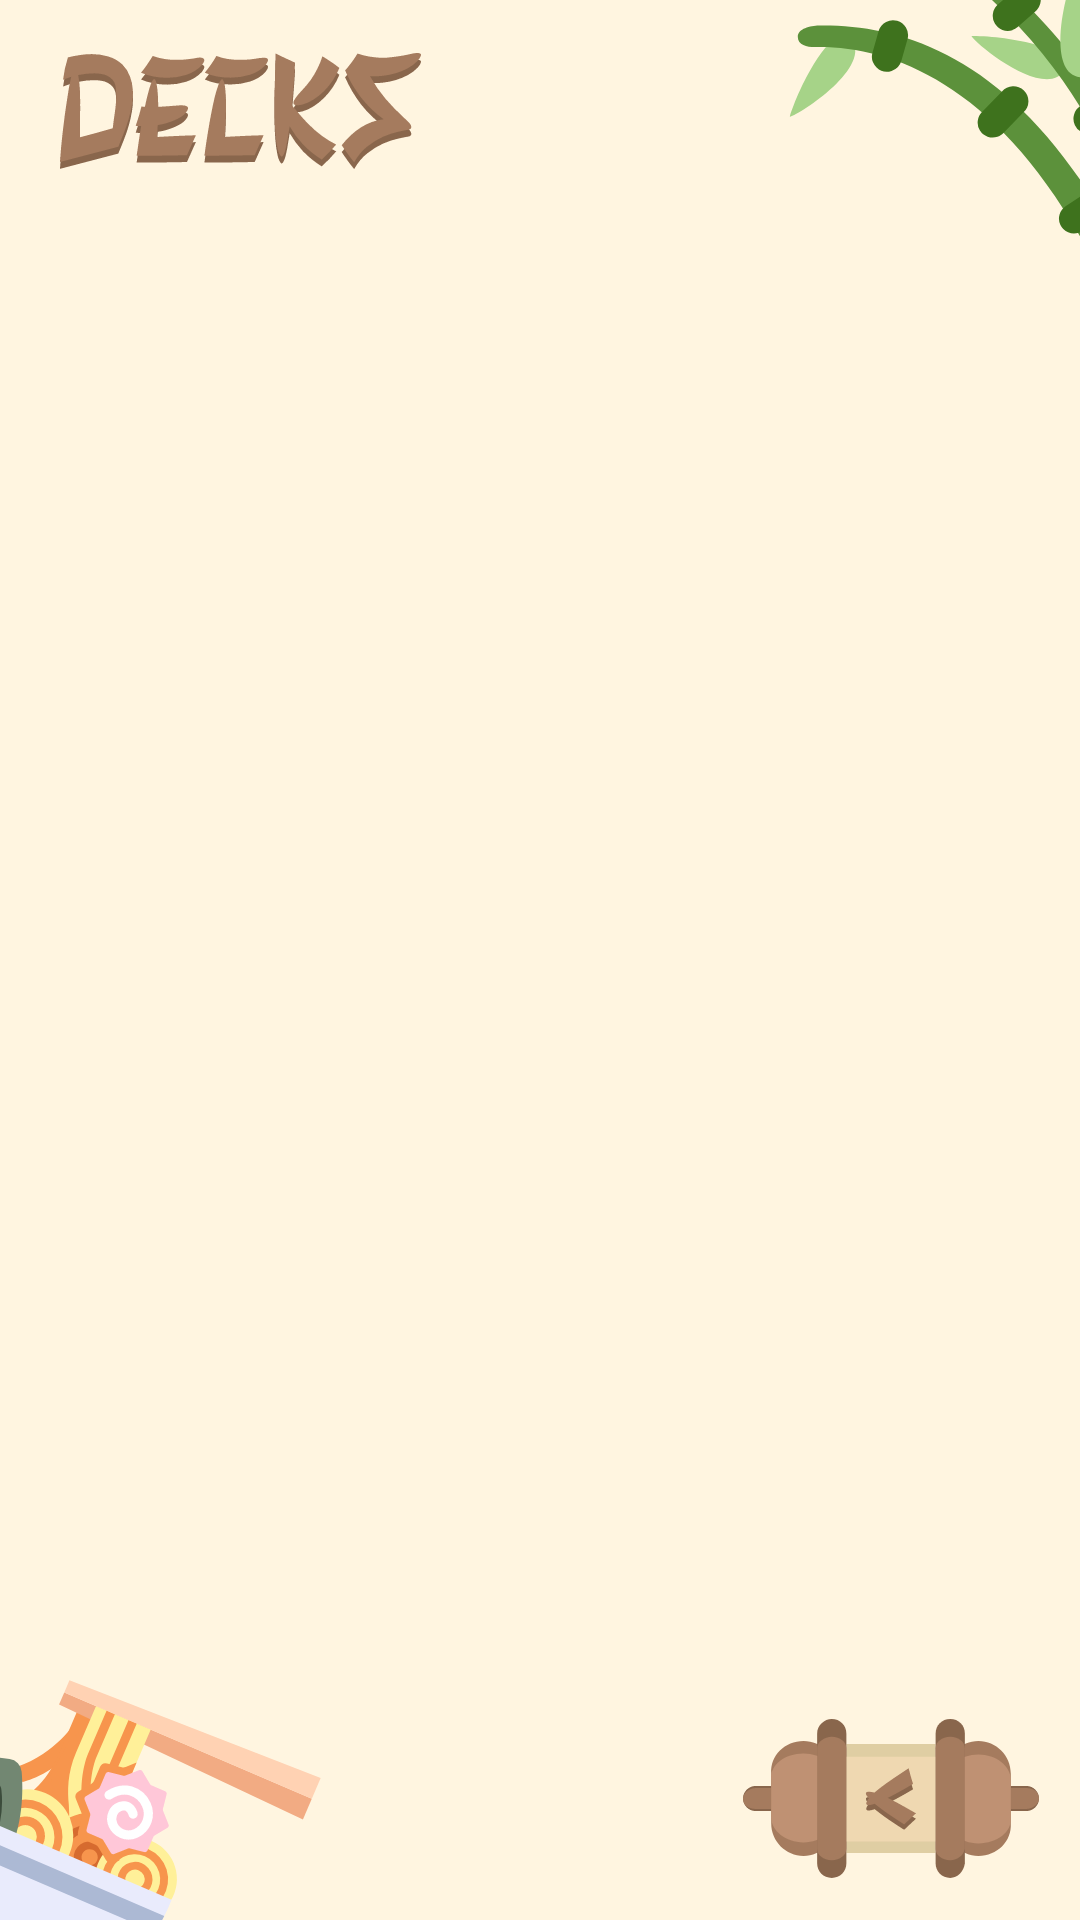

Locate icon controls on the screen. Image size 1080px x 1920px, boxes as (x1, y1, x2, y2).
back: (743, 1719, 1039, 1878)
